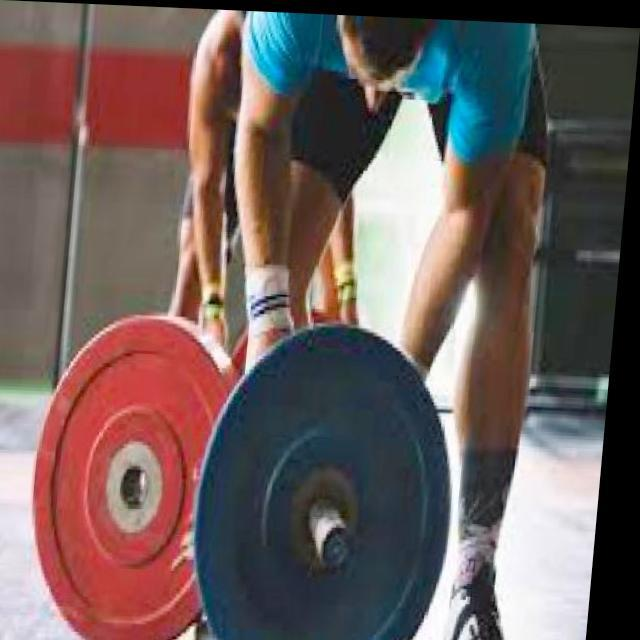barbell: (188, 308, 479, 640)
